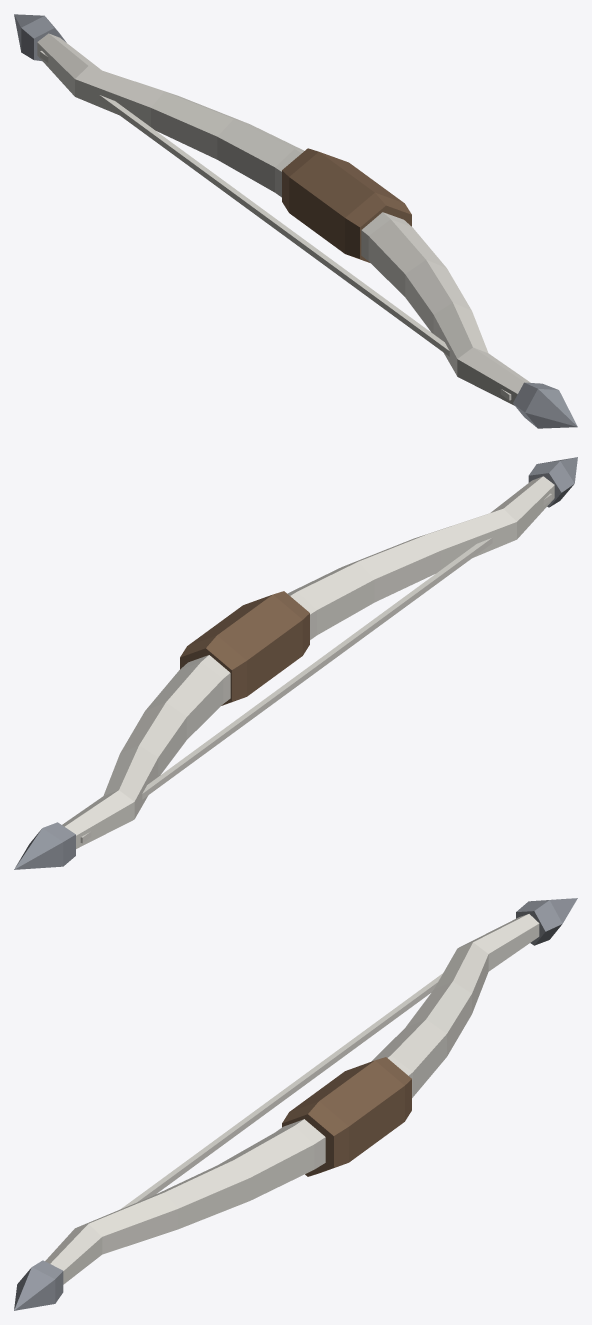
The model's file is hornbow.glb.
3 views of the same model, one above another, from view 1: azimuth 30°, elevation 25°; view 2: azimuth 150°, elevation 25°; view 3: azimuth 330°, elevation 25° (orthographic).
Parts seen in each view (by area): view 1: hornbow; view 2: hornbow; view 3: hornbow.
Part boxes in pixels (x1,y1,x2,y2): hornbow: [14, 14, 577, 428]; hornbow: [14, 457, 577, 869]; hornbow: [14, 898, 577, 1310].
Size of the model in its own units: 0.1144 by 0.0713 by 1.01.
